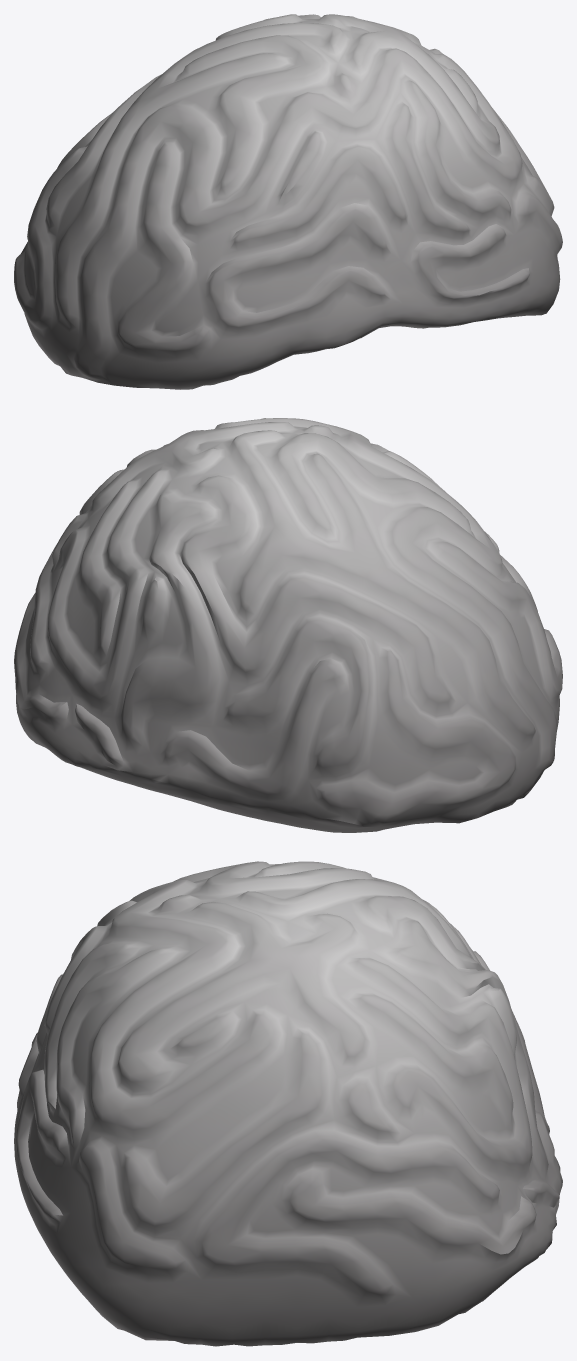
Rendered from meandrina-meandrites.glb.
3 renders of one model, top to bottom at view 1: azimuth 30°, elevation 25°; view 2: azimuth 150°, elevation 25°; view 3: azimuth 270°, elevation 25°, orthographic. The views are drawn at different scales.
Visible parts, largest first — view 1: meandrina-meandrites; view 2: meandrina-meandrites; view 3: meandrina-meandrites.
Boxes of the visible parts, bbox=[...] form: meandrina-meandrites: bbox=[14, 14, 562, 389]; meandrina-meandrites: bbox=[14, 418, 562, 832]; meandrina-meandrites: bbox=[14, 861, 562, 1346].
Size of the model in its own units: 0.3658 by 0.2206 by 0.3066.
Materials: 1 (1 with a texture image).
